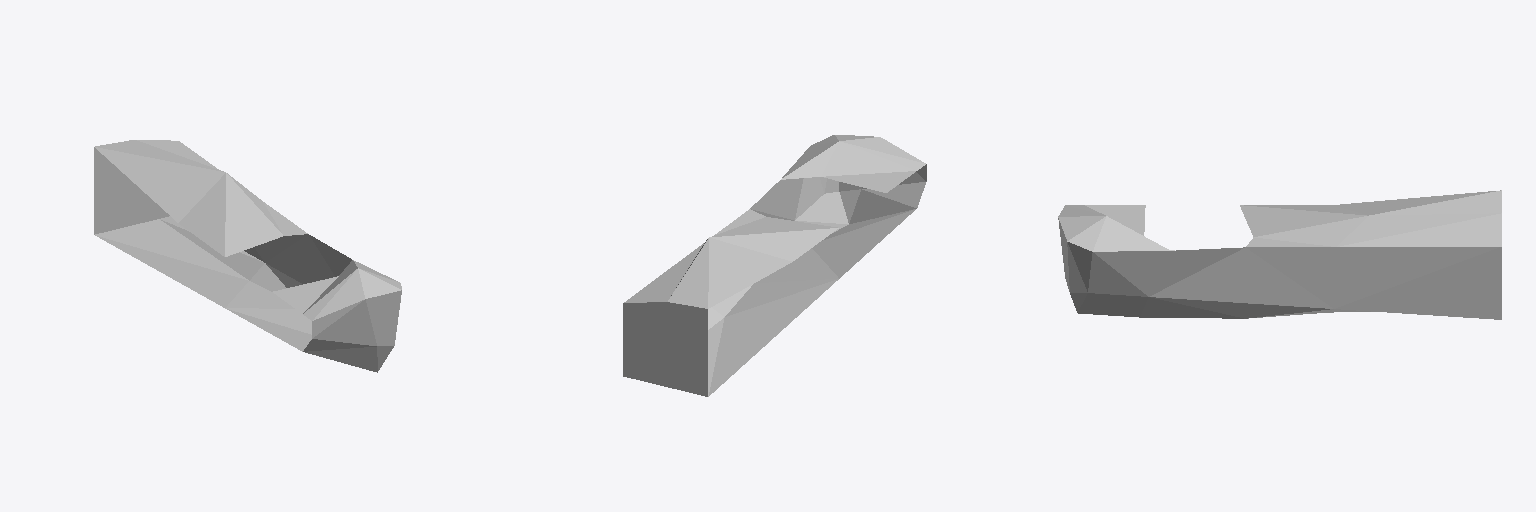
File: TilePlatformBorderRGrass.obj
The picture shows the model from 3 angles: view 1: azimuth 30°, elevation 25°; view 2: azimuth 150°, elevation 25°; view 3: azimuth 270°, elevation 25°; orthographic projection.
Bounding box in the file's own units: 1.17 × 1.04 × 4.38.